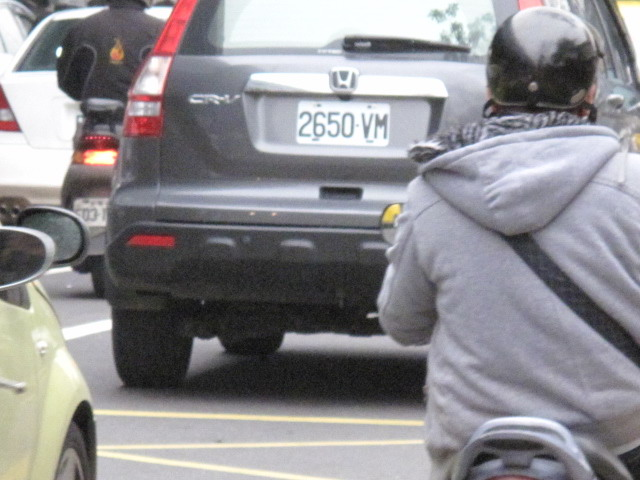plate: (296, 97, 393, 152)
